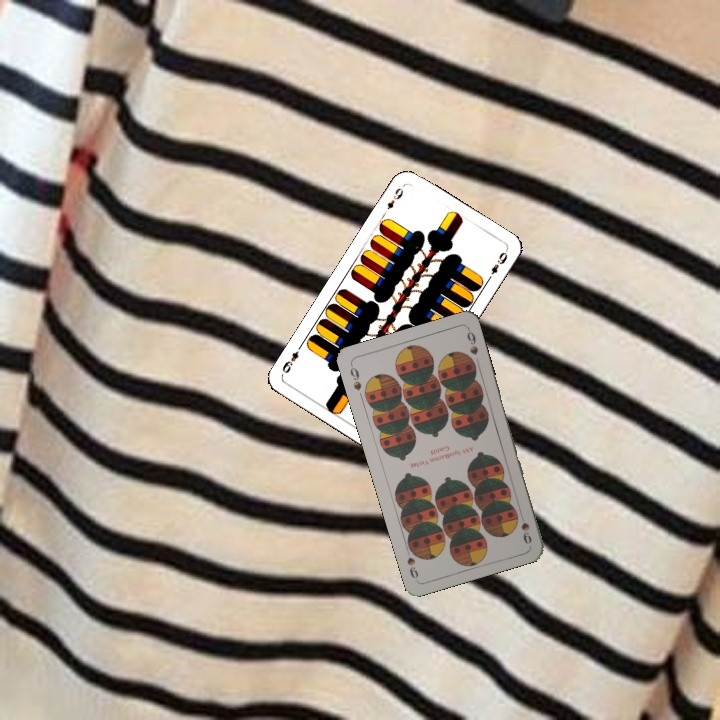E9: (379, 182, 407, 218)
S9: (515, 506, 534, 547), (346, 360, 364, 393)
